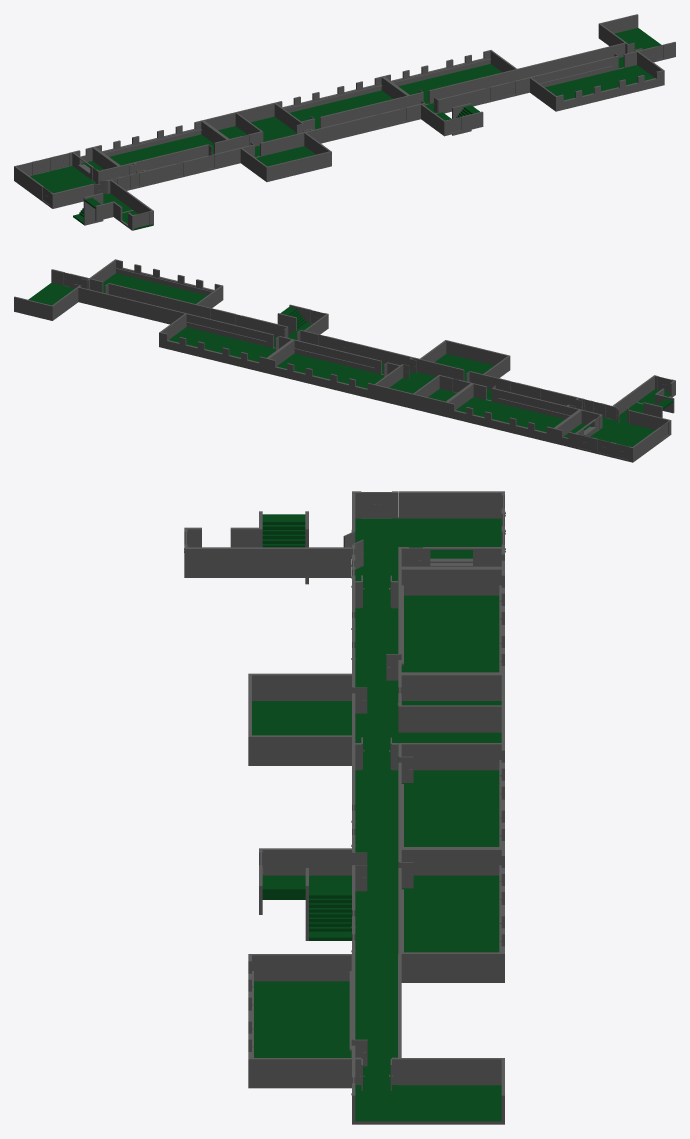
The model's file is level1_test_v2.fbx.
3 renders of one model, top to bottom at view 1: azimuth 30°, elevation 25°; view 2: azimuth 150°, elevation 25°; view 3: azimuth 270°, elevation 25°, orthographic. The views are drawn at different scales.
Visible parts, largest first — view 1: pasted__pCube1 (×2), polySurface1, pasted__pasted__pCube1, pasted__polySurface4, polySurface6, pCube9, pasted__polySurface5, polySurface2, polySurface5, pasted__pCube9; view 2: pasted__pCube1 (×2), polySurface1, pasted__pasted__pCube1, pasted__polySurface4, polySurface6, pasted__polySurface5, pCube9, polySurface5, polySurface2, pasted__pCube9; view 3: pasted__pCube1 (×2), pasted__pasted__pCube1, pasted__polySurface4, polySurface1, pasted__polySurface5, polySurface6, pCube9, pasted__pCube9, polySurface5, polySurface2.
Part boxes in pixels (x1,y1,x2,y2): pasted__pCube1 (×2): (274,42,664,143); polySurface1: (94,120,240,189); pasted__pasted__pCube1: (383,50,529,113); pasted__polySurface4: (202,112,331,181); polySurface6: (14,166,106,208); pCube9: (73,180,153,230); pasted__polySurface5: (598,14,675,62); polySurface2: (72,147,131,192); polySurface5: (237,103,312,152); pasted__pCube9: (421,103,483,136); pasted__pCube1 (×2): (77,259,412,399); polySurface1: (446,374,591,443); pasted__pasted__pCube1: (159,304,304,373); pasted__polySurface4: (412,340,510,416); polySurface6: (576,411,671,462); pasted__polySurface5: (14,269,88,320); pCube9: (613,375,675,422); polySurface5: (375,357,449,408); polySurface2: (554,401,613,448); pasted__pCube9: (277,304,328,339); pasted__pCube1 (×2): (248,743,504,1088); pasted__pasted__pCube1: (352,848,504,982); pasted__polySurface4: (248,673,504,765); polySurface1: (352,568,504,699); pasted__polySurface5: (352,1058,504,1124); polySurface6: (351,491,504,572); pCube9: (184,511,351,584); pasted__pCube9: (259,848,351,940); polySurface5: (352,706,504,768); polySurface2: (352,547,504,593).
Bounding box in the file's own units: 100 × 4.25 × 22.56.
